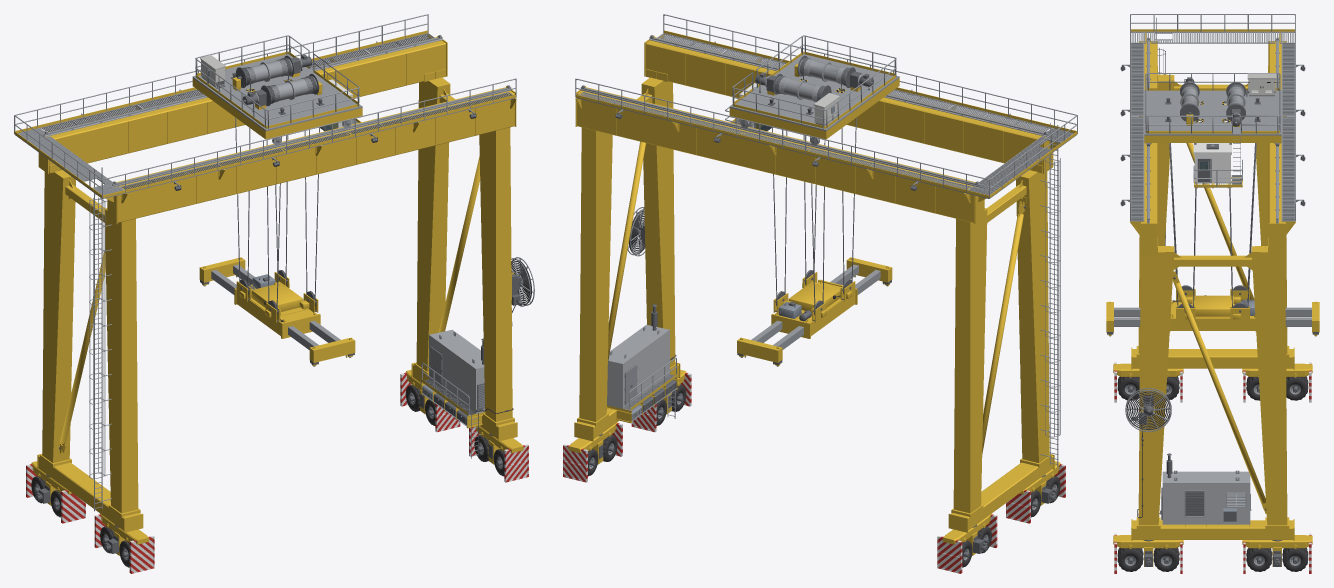
File: RTG_Crane.fbx
The picture shows the model from 3 angles, left to right: view 1: azimuth 30°, elevation 25°; view 2: azimuth 150°, elevation 25°; view 3: azimuth 270°, elevation 25°; orthographic projection. The views are drawn at different scales.
Visible parts, largest first — view 1: GantryFrame_Body, CrossoverRailing, Trolley_Body.016, Ladder_LegLB, MH_Enclosure, Trolley_TopRailing, CatwalkDeck_B, CatwalkDeck_F, CrossoverDeck, TrolleyRail_B, Trolley_DeckFrame, Spreader_MainFrame_Body (+9 smaller); view 2: GantryFrame_Body, CrossoverRailing, Trolley_Body.016, MH_Enclosure, Ladder_LegLB, Trolley_TopRailing, CatwalkDeck_F, CatwalkDeck_B, CrossoverDeck, TrolleyRail_F, Trolley_DeckFrame, TrolleyRail_B (+10 smaller); view 3: GantryFrame_Body, Trolley_Body.016, MH_Enclosure, CatwalkDeck_B, CatwalkDeck_F, CrossoverDeck, Trolley_TopRailing, CableReel, CrossoverRailing, Spreader_MainFrame_Body, Trolley_DeckFrame, Headblock_Part_03 (+27 smaller).
Boxes of the visible parts, x1,y1,x2,y2 form: GantryFrame_Body: (37, 36, 517, 532); CrossoverRailing: (14, 14, 516, 198); Trolley_Body.016: (192, 54, 362, 131); Ladder_LegLB: (89, 167, 111, 511); MH_Enclosure: (429, 329, 485, 413); Trolley_TopRailing: (195, 35, 359, 128); CatwalkDeck_B: (120, 92, 516, 192); CatwalkDeck_F: (39, 33, 434, 132); CrossoverDeck: (14, 128, 126, 198); TrolleyRail_B: (112, 85, 511, 187); Trolley_DeckFrame: (192, 78, 362, 139); Spreader_MainFrame_Body: (234, 284, 320, 338); GantryFrame_Body: (574, 36, 1054, 532); CrossoverRailing: (575, 14, 1077, 198); Trolley_Body.016: (729, 54, 899, 131); MH_Enclosure: (607, 324, 669, 408); Ladder_LegLB: (1040, 123, 1060, 466); Trolley_TopRailing: (732, 35, 896, 128); CatwalkDeck_F: (576, 92, 971, 192); CatwalkDeck_B: (657, 33, 1052, 132); CrossoverDeck: (965, 128, 1077, 198); TrolleyRail_F: (580, 85, 979, 186); Trolley_DeckFrame: (729, 78, 899, 139); TrolleyRail_B: (649, 35, 1048, 136); GantryFrame_Body: (1131, 41, 1294, 541); Trolley_Body.016: (1144, 90, 1281, 135); MH_Enclosure: (1162, 470, 1250, 524); CatwalkDeck_B: (1130, 42, 1144, 221); CatwalkDeck_F: (1281, 42, 1295, 221); CrossoverDeck: (1131, 31, 1294, 43); Trolley_TopRailing: (1145, 73, 1280, 133); CableReel: (1125, 388, 1171, 517); CrossoverRailing: (1130, 14, 1295, 220); Spreader_MainFrame_Body: (1169, 300, 1256, 331); Trolley_DeckFrame: (1144, 135, 1281, 142); Headblock_Part_03: (1192, 295, 1233, 316).
Bounding box in the file's own units: 2725 × 2504 × 1243.
